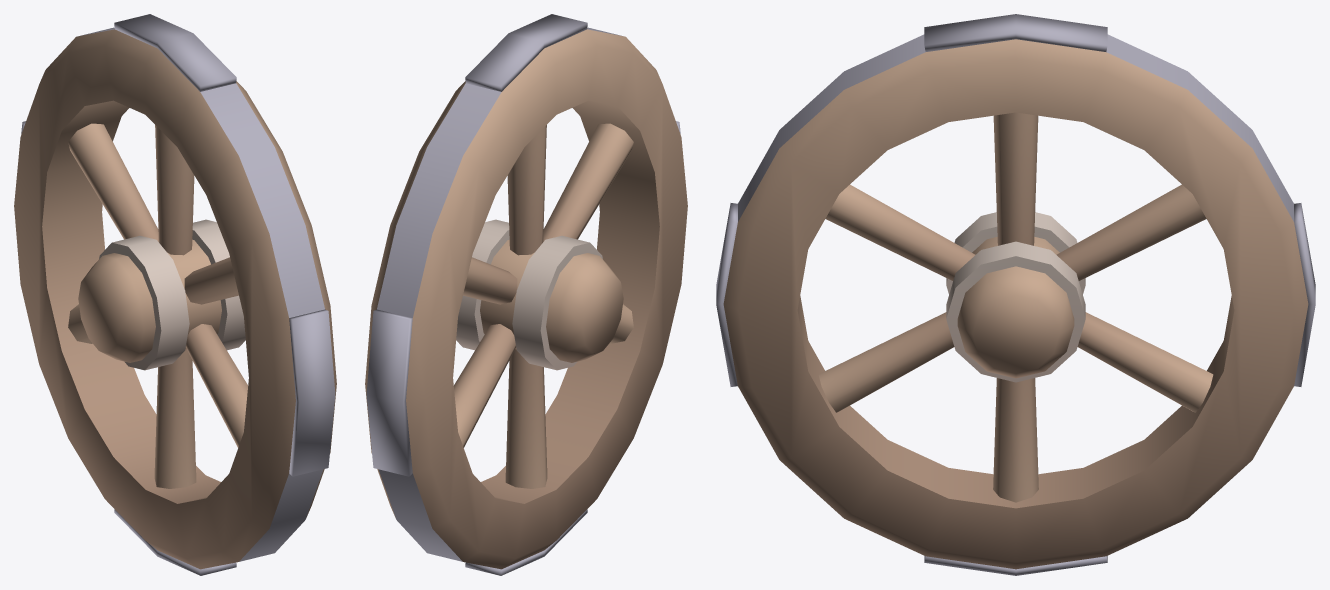
File: wagon-wheel.glb
3 views of the same model, side by side, from view 1: azimuth 30°, elevation 25°; view 2: azimuth 150°, elevation 25°; view 3: azimuth 270°, elevation 25° (orthographic). The views are drawn at different scales.
Parts seen in each view (by area): view 1: wagon-wheel; view 2: wagon-wheel; view 3: wagon-wheel.
Boxes of the visible parts, bbox=[...] form: wagon-wheel: bbox=[14, 14, 336, 575]; wagon-wheel: bbox=[365, 14, 687, 575]; wagon-wheel: bbox=[716, 14, 1315, 575].
Size of the model in its own units: 0.2046 by 0.6562 by 0.6562.
